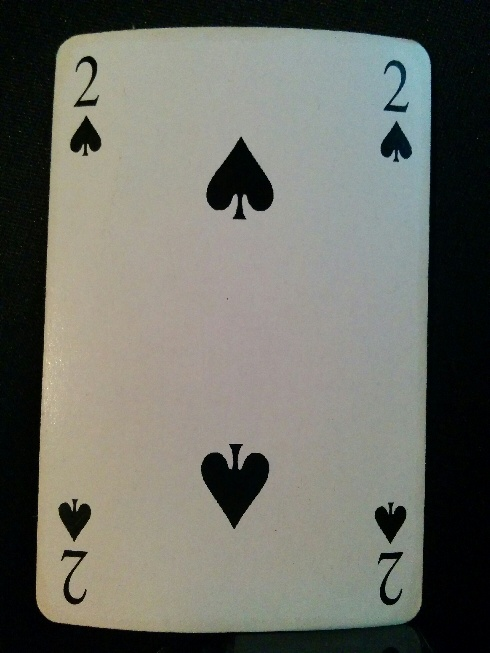S2: (52, 494, 100, 608), (370, 497, 413, 613), (374, 57, 415, 165), (69, 53, 110, 161)
